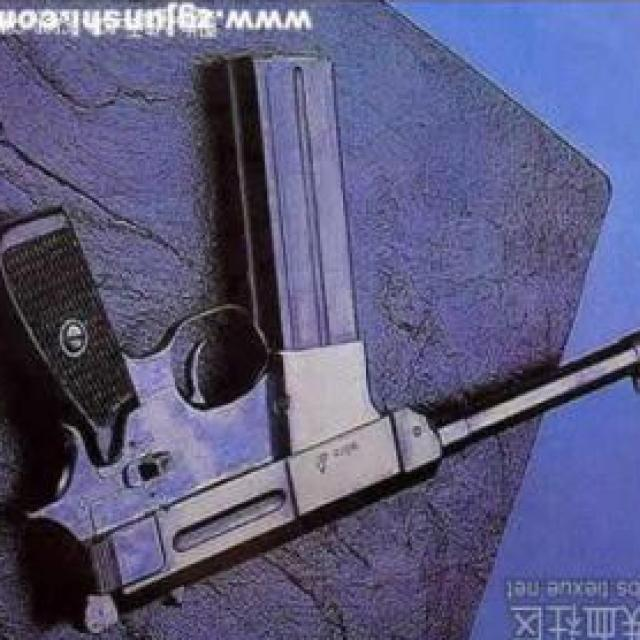pistol: (0, 219, 640, 635)
